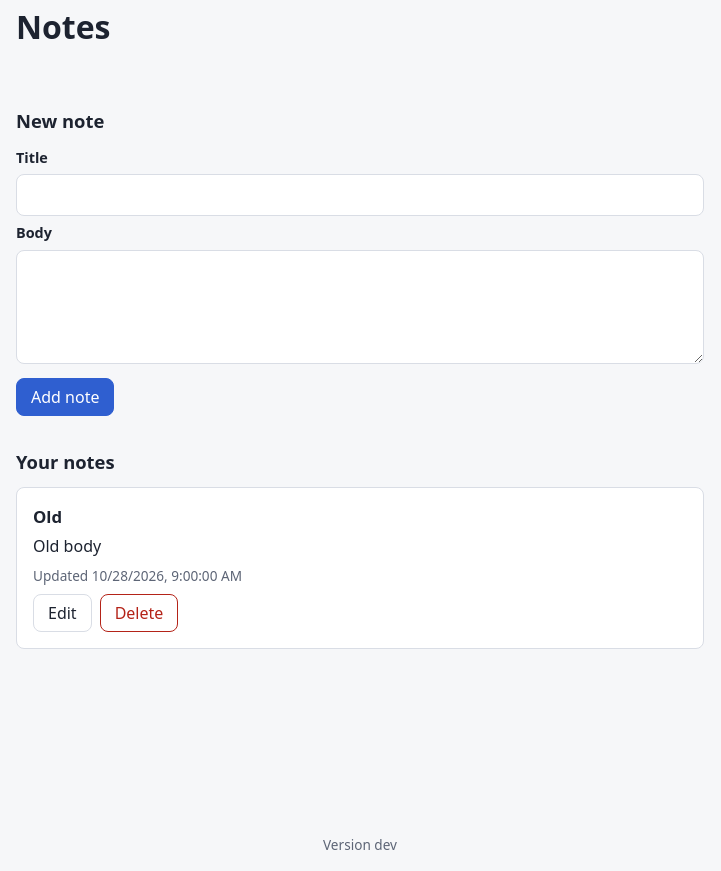
editing a note › updates the note inline
This screenshot has width=721, height=871.
Click the button "Edit": (62, 613) [33,594,92,632]
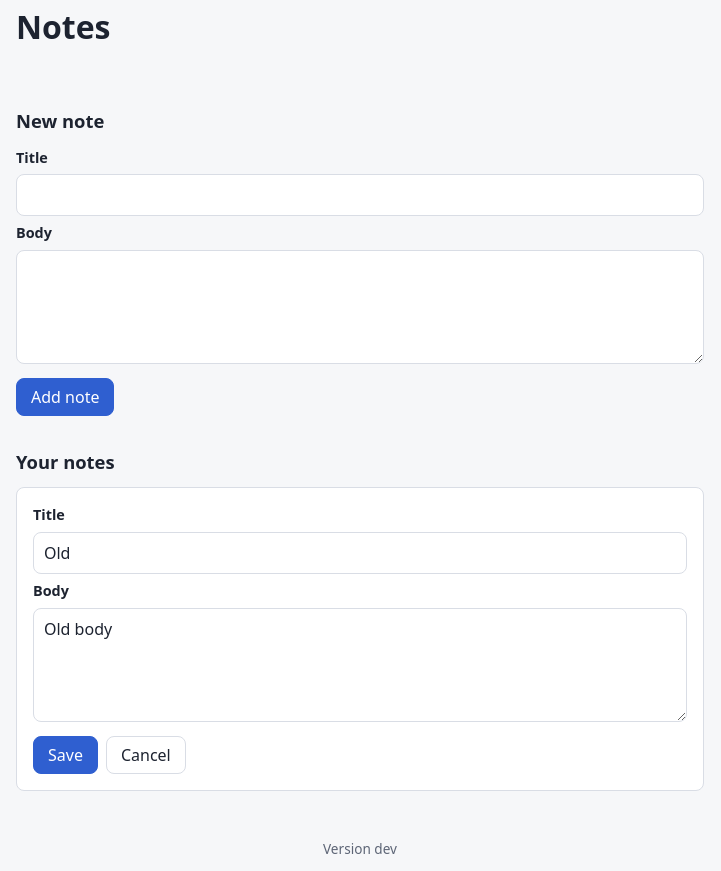
Result: the field labelled "Title" below "Your notes" holds "Old"
Replace the text in the field labelled "Title" below "Your notes" with "Updated": (360, 553) [33,532,687,574]
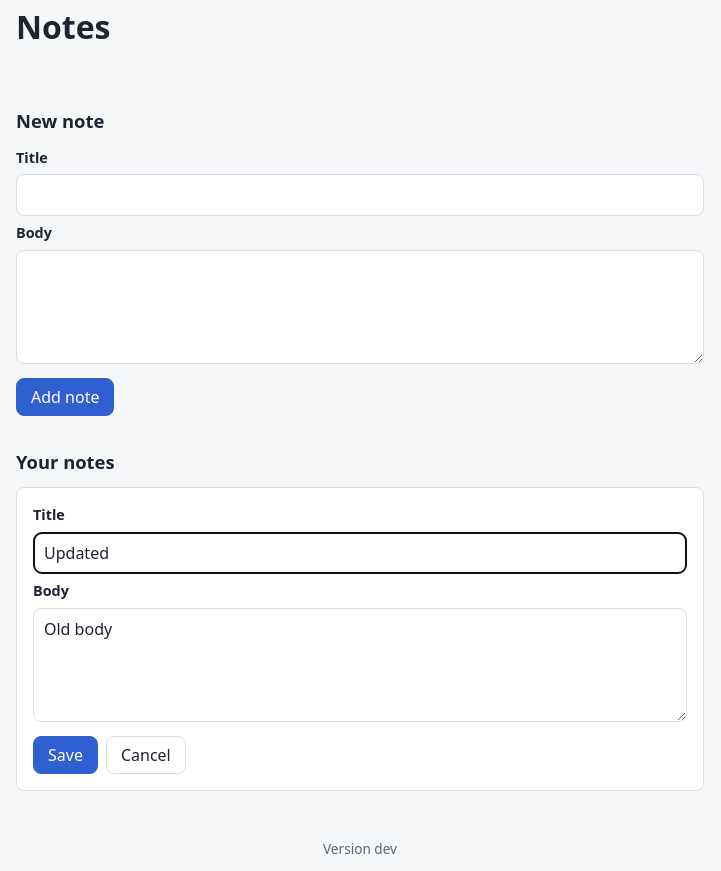
Clear the text box labelled "Body" below "Your notes": (360, 665) [33,608,687,722]
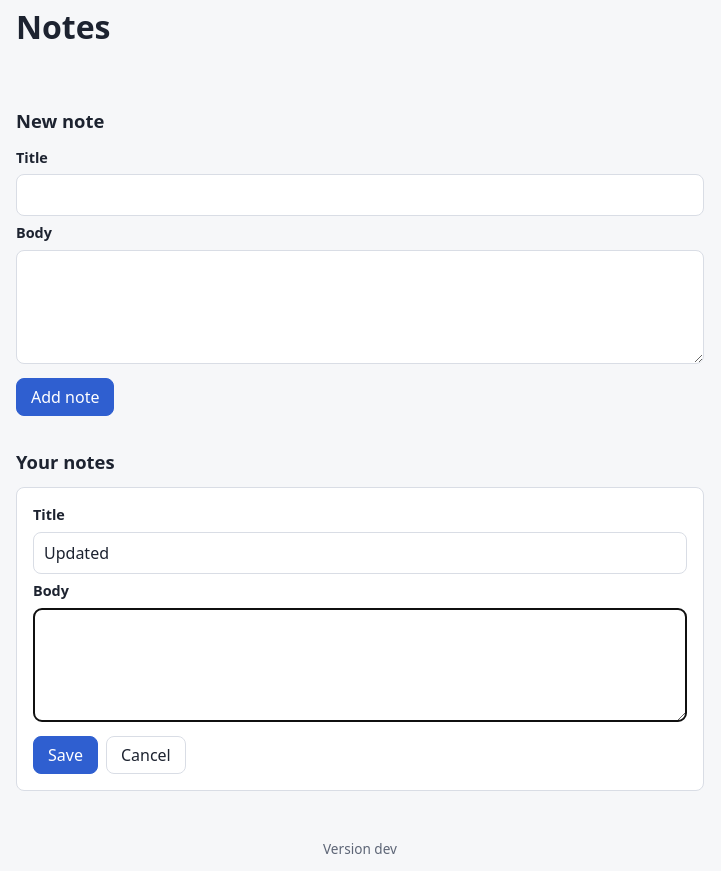
Click the button "Save": (65, 755) [33,736,98,774]
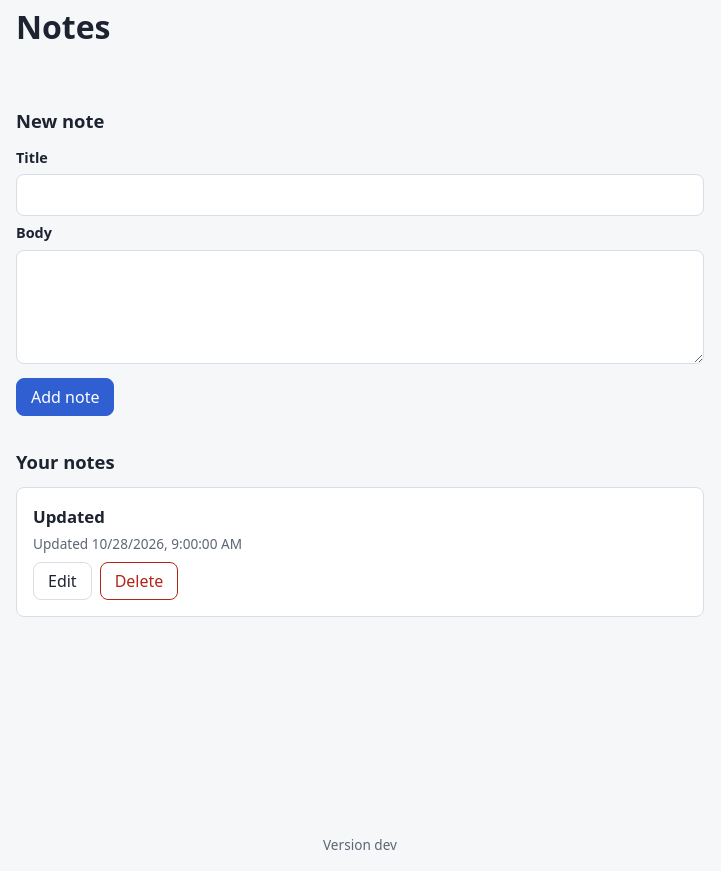
Result: the heading "Updated" is shown at [33,505,105,528]
